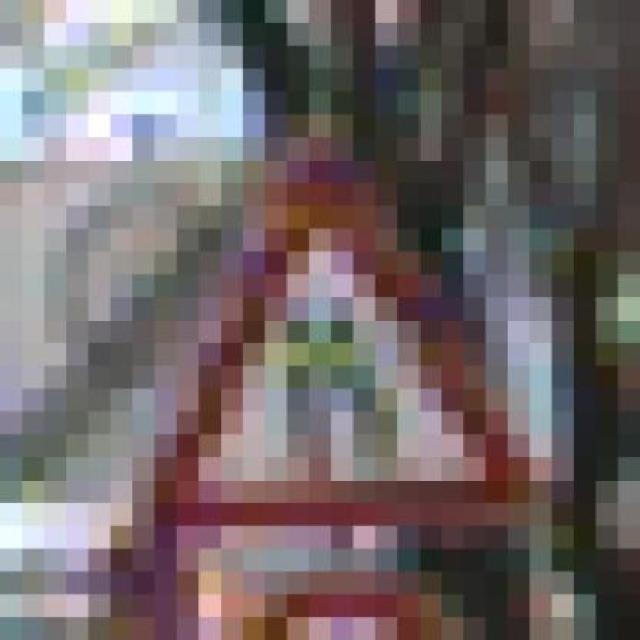-Road narrows on right: (110, 114, 552, 549)
